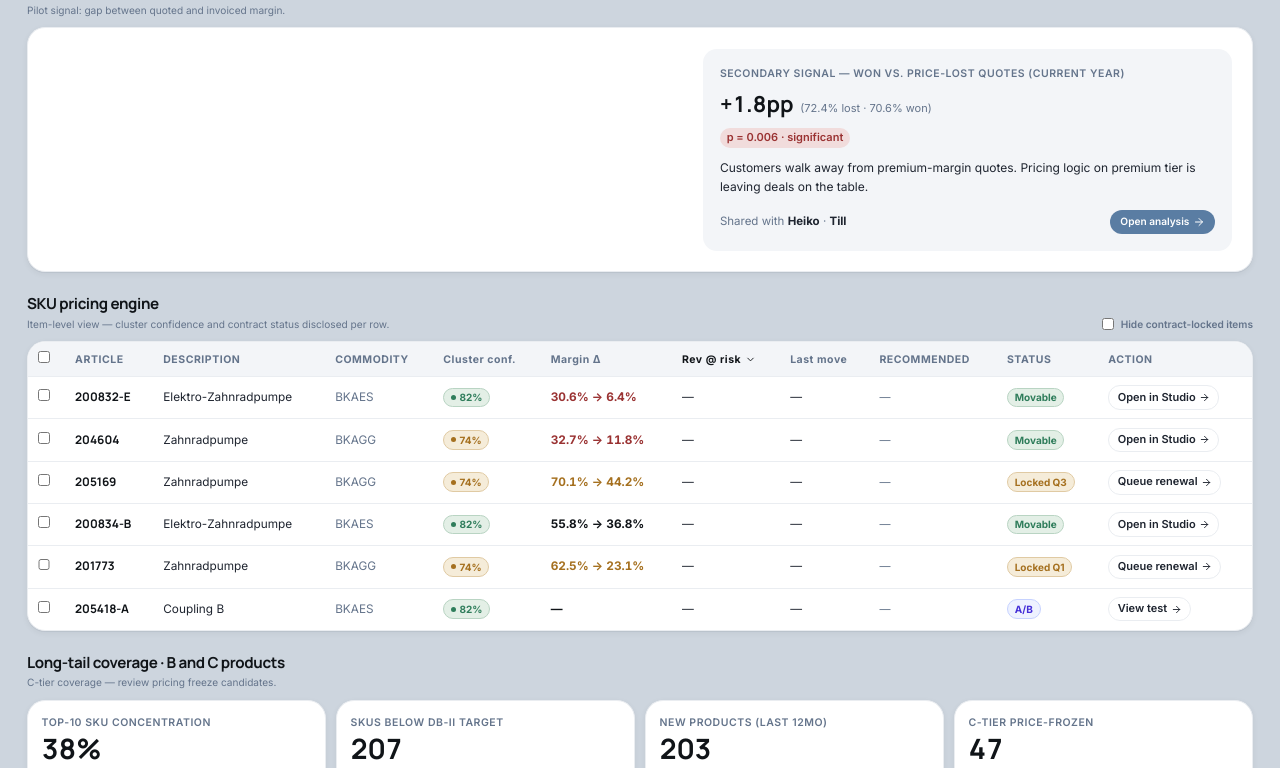
Test: Action Center page › SKU bulk toolbar is hidden by default and appears after a checkbox click
This screenshot has width=1280, height=768.
(page scrolled)
Expected: the heading "SKU pricing engine" is shown, 27,293 -> 159,314
Click the checkbox named "Select 200832-E": (44, 395) 38,389 -> 50,401
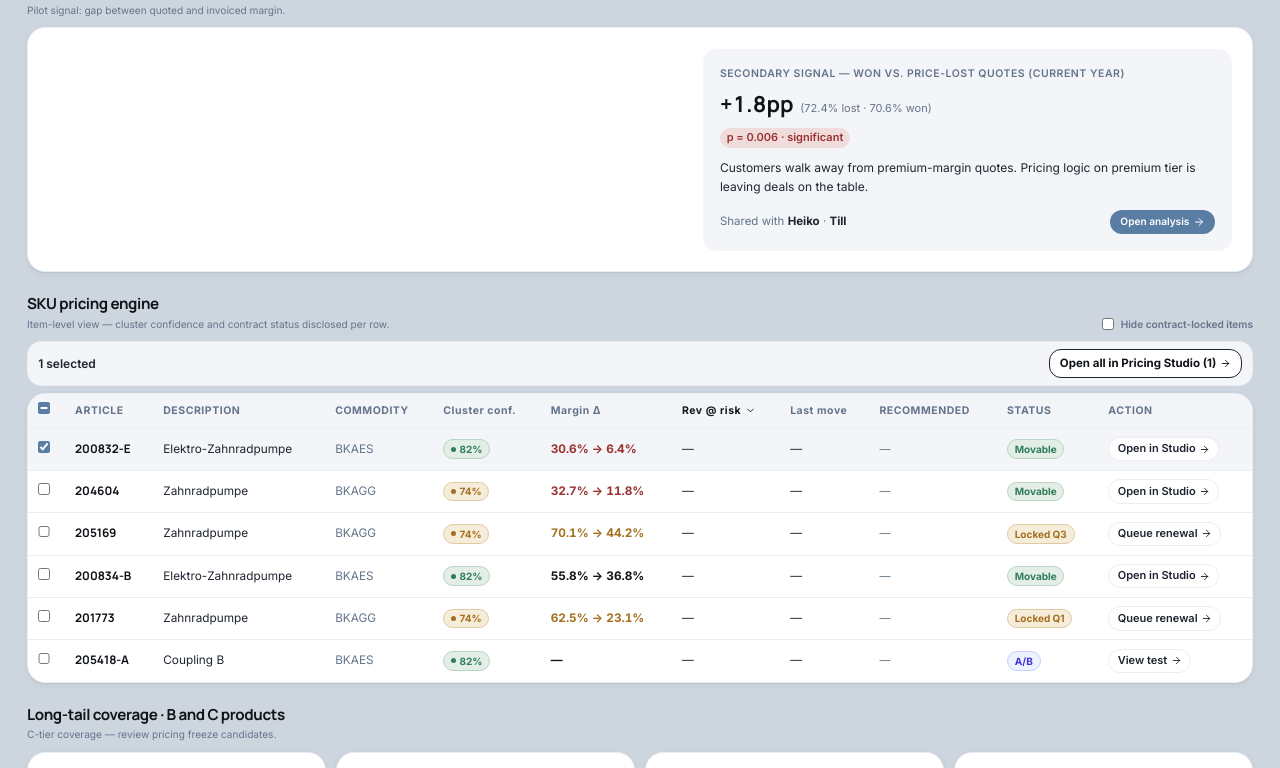
Result: the element with test id "sku-bulk-toolbar" is shown at 27,341 -> 1253,386
